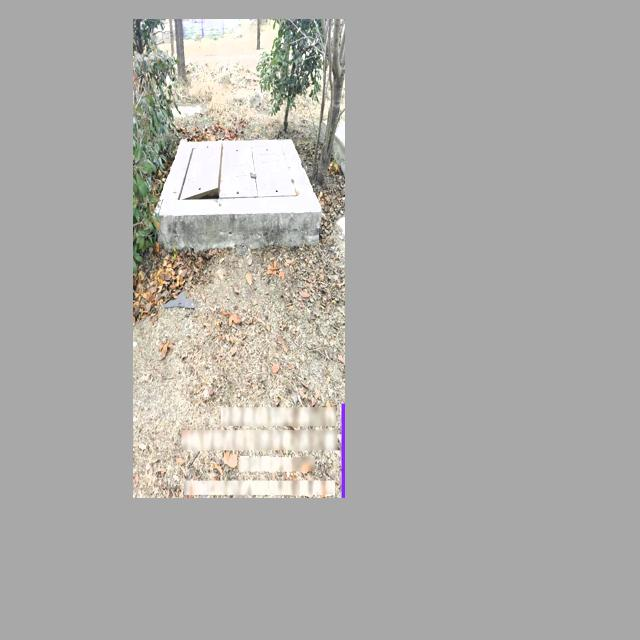uncovered: (173, 129, 300, 208)
